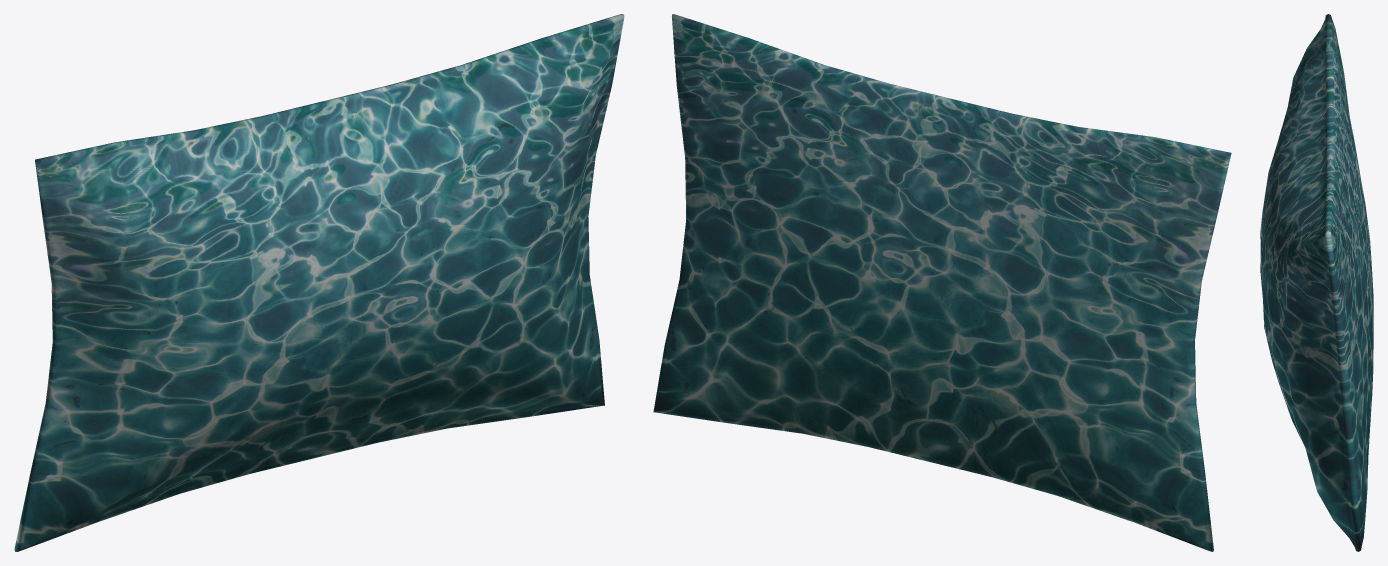
The model's file is Cushion.glb.
3 views of the same model, side by side, from view 1: azimuth 30°, elevation 25°; view 2: azimuth 150°, elevation 25°; view 3: azimuth 270°, elevation 25° (orthographic). The views are drawn at different scales.
Visible parts, largest first — view 1: node-0; view 2: node-0; view 3: node-0.
Part boxes in pixels (box(x1,y1,x2,y2)): node-0: box(14, 14, 624, 551); node-0: box(653, 14, 1231, 551); node-0: box(1260, 14, 1373, 551).
Bounding box in the file's own units: 29.56 × 19.57 × 6.31.
1 material, 1 textured.
